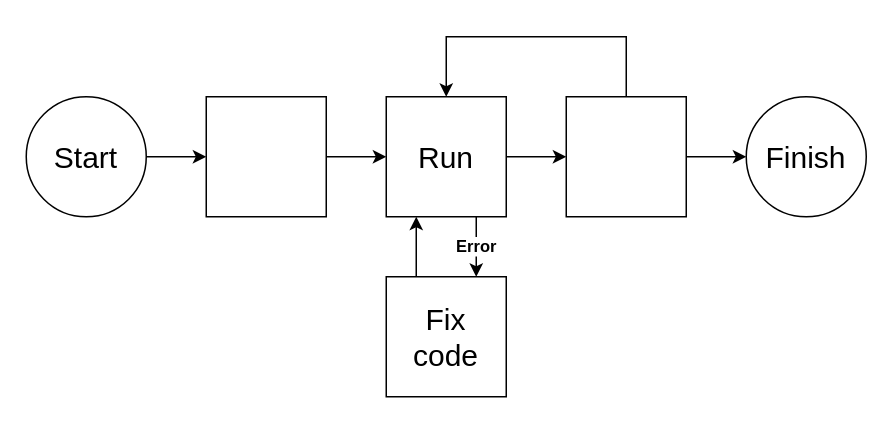
Image size: 893x423. Some labels were removed from this diagram. Here are the shapes that lost their labels. From the top down, the centre of each, then its label:
At [265,156]: "Create code".
At [625,156]: "Improve code".
